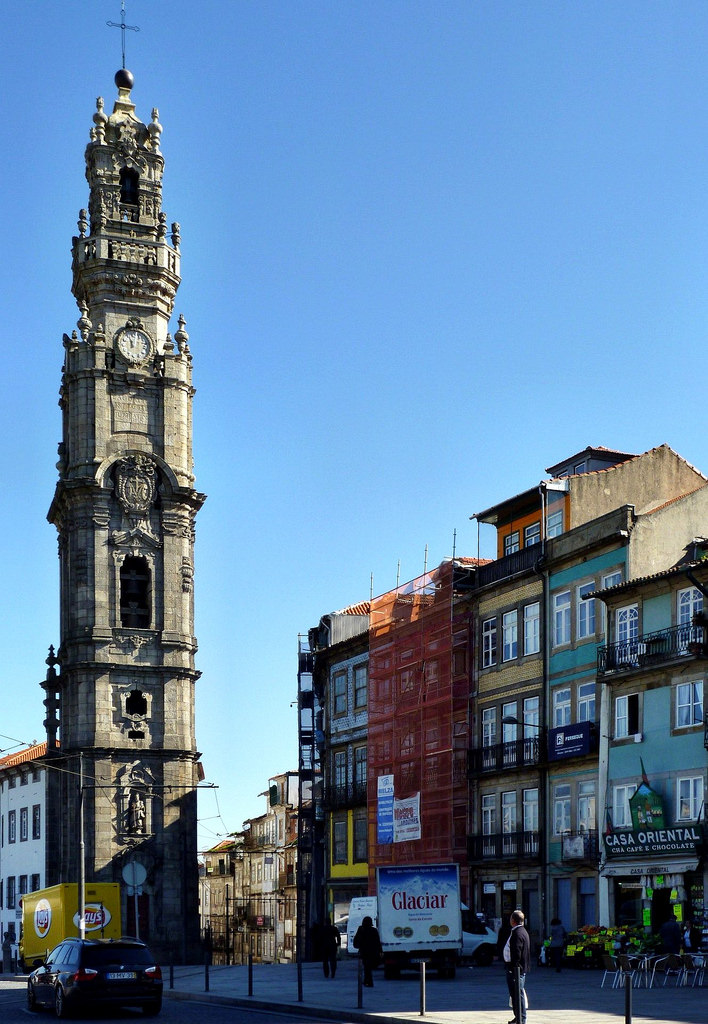clerigos: (38, 0, 202, 940)
